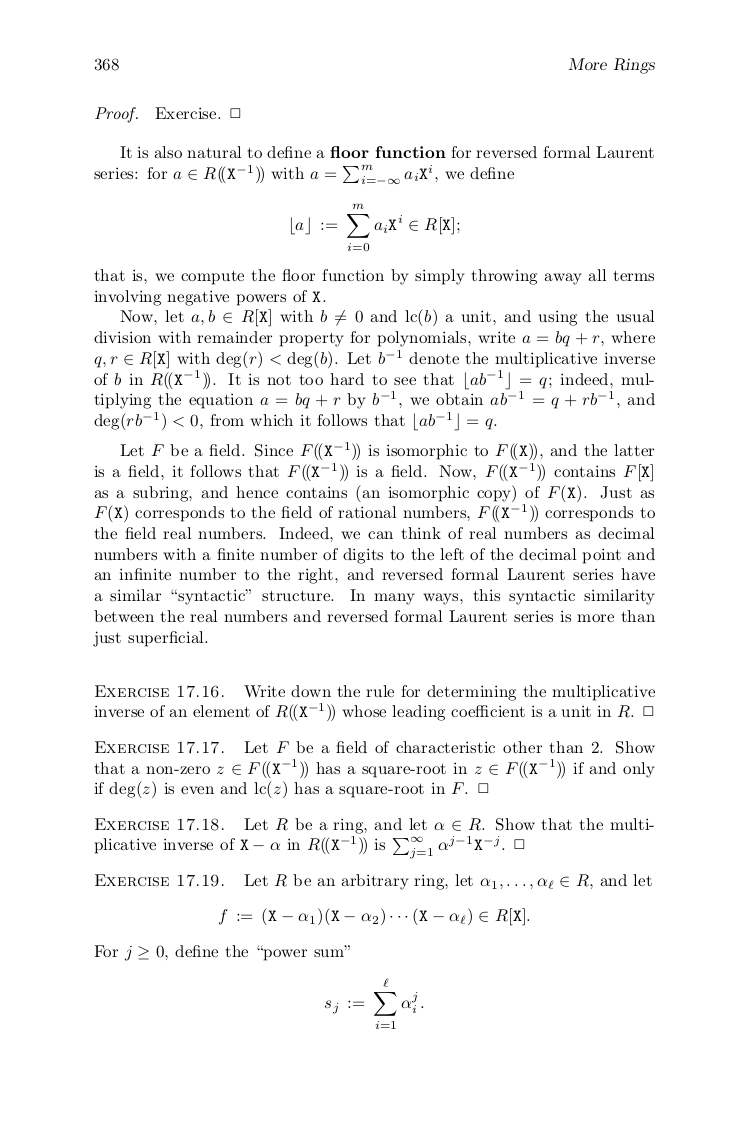formula: (291, 203, 459, 251), (219, 907, 529, 926), (325, 978, 423, 1028)
